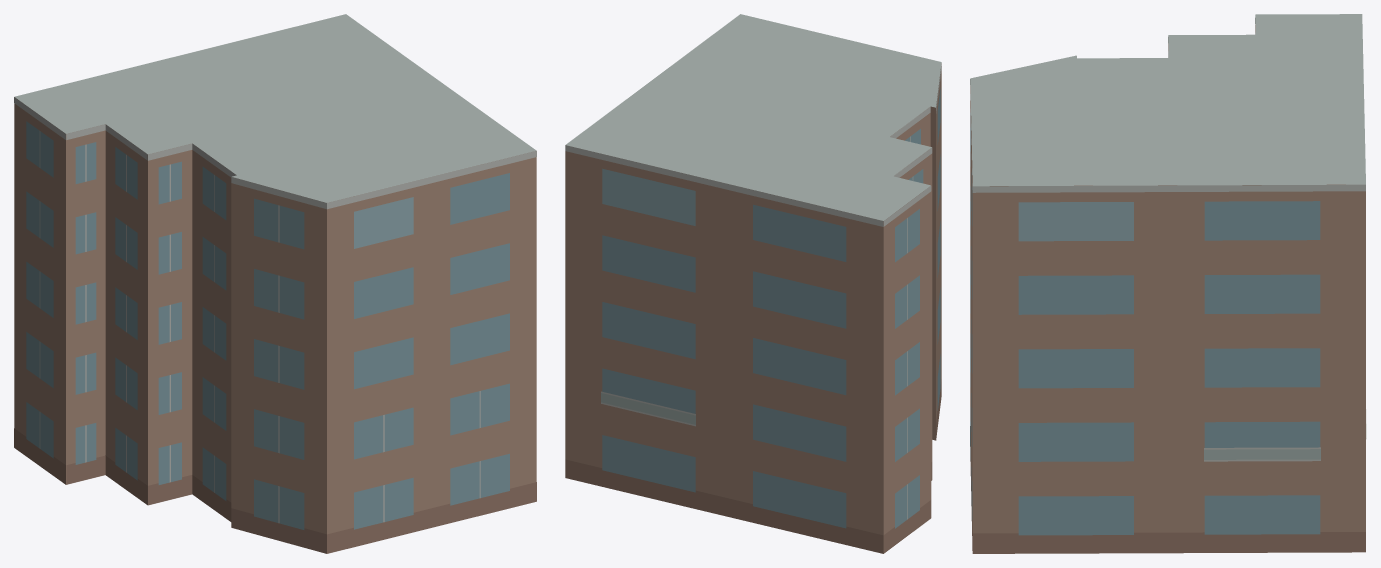
Rendered from survey-upis-33021601.glb.
The picture shows the model from 3 angles, left to right: view 1: azimuth 30°, elevation 25°; view 2: azimuth 150°, elevation 25°; view 3: azimuth 270°, elevation 25°; orthographic projection. The views are drawn at different scales.
Visible parts, largest first — view 1: survey-upis-33021601.tmp; view 2: survey-upis-33021601.tmp; view 3: survey-upis-33021601.tmp.
Boxes of the visible parts, <box> form: survey-upis-33021601.tmp: <box>14,14,536,553</box>; survey-upis-33021601.tmp: <box>565,14,941,553</box>; survey-upis-33021601.tmp: <box>970,14,1366,553</box>.
Size of the model in its own units: 13.57 by 13.5 by 13.2.
